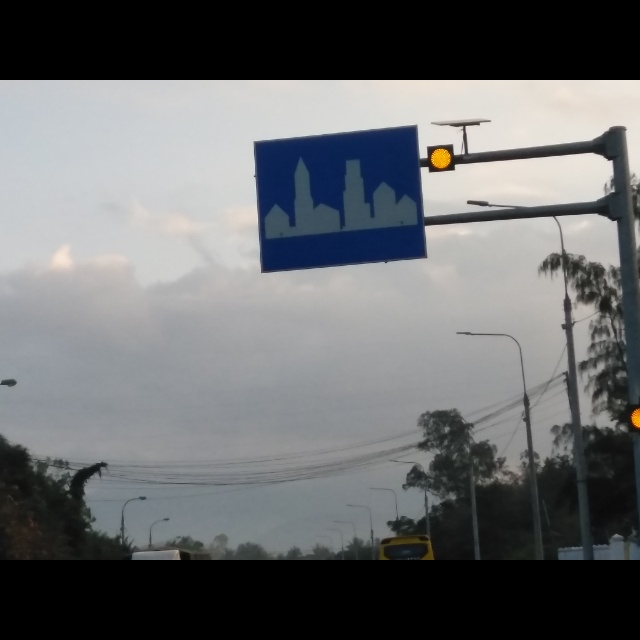Khu đông dân cư: (248, 125, 433, 276)
